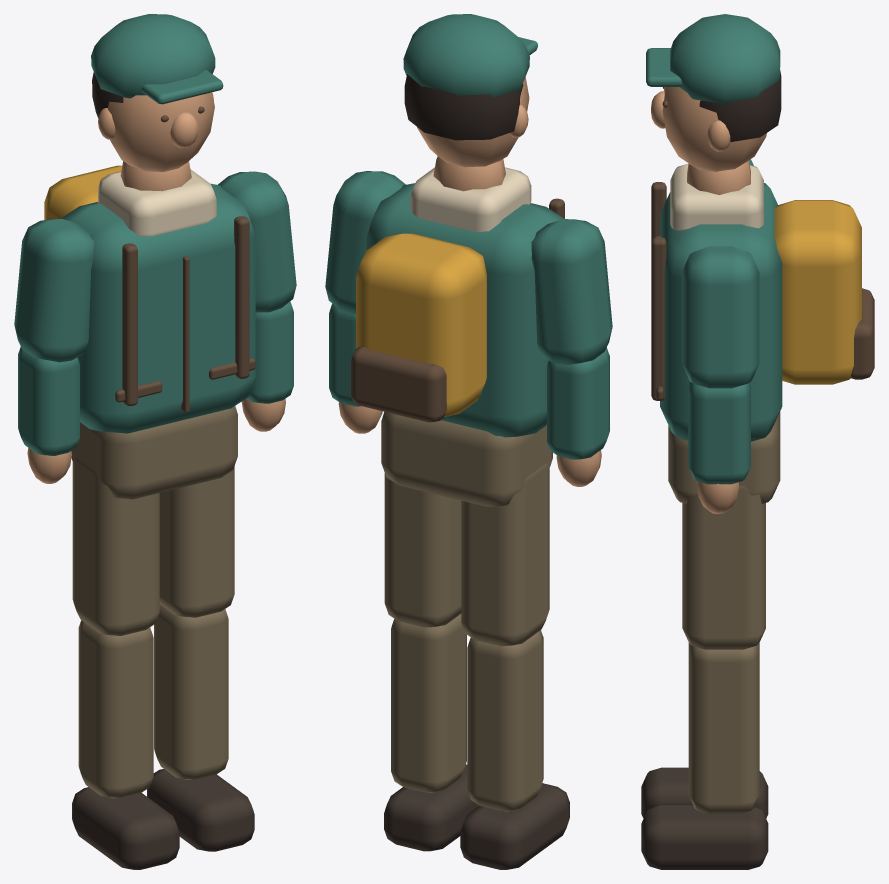
Rendered from pedestrian-hiker.glb.
3 views of the same model, side by side, from view 1: azimuth 30°, elevation 25°; view 2: azimuth 150°, elevation 25°; view 3: azimuth 270°, elevation 25° (orthographic).
Visible parts, largest first — view 1: upper-body, left-thigh, left-knee, right-knee, Harbor pedestrian hiker, right-thigh, left-shoulder, head, left-elbow, left-ankle, right-ankle, right-shoulder (+1 smaller); view 2: upper-body, left-thigh, left-knee, right-knee, Harbor pedestrian hiker, right-thigh, left-shoulder, head, left-elbow, left-ankle, right-shoulder, right-ankle (+1 smaller); view 3: upper-body, right-thigh, right-knee, right-shoulder, head, right-ankle, right-elbow, Harbor pedestrian hiker, left-ankle.
Boxes of the visible parts, left/top/right/bottom form: upper-body: left=44, top=14, right=255, bottom=433; left-thigh: left=72, top=457, right=159, bottom=635; left-knee: left=78, top=620, right=153, bottom=798; right-knee: left=154, top=604, right=228, bottom=779; Harbor pedestrian hiker: left=71, top=406, right=237, bottom=499; right-thigh: left=159, top=466, right=234, bottom=617; left-shoulder: left=14, top=218, right=93, bottom=362; head: left=92, top=72, right=214, bottom=171; left-elbow: left=18, top=346, right=79, bottom=483; left-ankle: left=72, top=787, right=179, bottom=869; right-ankle: left=147, top=769, right=254, bottom=851; right-shoulder: left=218, top=171, right=296, bottom=312; upper-body: left=351, top=14, right=564, bottom=437; left-thigh: left=461, top=464, right=549, bottom=646; left-knee: left=467, top=630, right=543, bottom=811; right-knee: left=391, top=614, right=466, bottom=792; Harbor pedestrian hiker: left=381, top=411, right=552, bottom=506; right-thigh: left=384, top=473, right=461, bottom=627; left-shoulder: left=531, top=219, right=612, bottom=364; head: left=404, top=74, right=529, bottom=167; left-elbow: left=547, top=348, right=609, bottom=486; left-ankle: left=460, top=783, right=569, bottom=869; right-shoulder: left=325, top=171, right=405, bottom=313; right-ankle: left=384, top=764, right=479, bottom=851; upper-body: left=646, top=14, right=874, bottom=441; right-thigh: left=682, top=486, right=765, bottom=649; right-knee: left=688, top=643, right=759, bottom=814; right-shoulder: left=682, top=246, right=759, bottom=388; head: left=651, top=70, right=781, bottom=171; right-ankle: left=641, top=804, right=768, bottom=869; right-elbow: left=688, top=382, right=750, bottom=514; Harbor pedestrian hiker: left=668, top=411, right=780, bottom=503; left-ankle: left=641, top=767, right=768, bottom=818.
Size of the model in its own units: 0.6083 by 1.78 by 0.4575.
